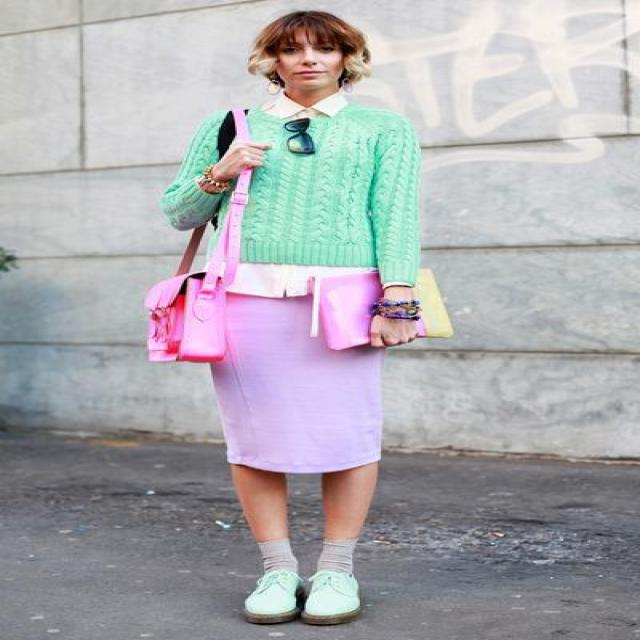bag: (146, 192, 451, 372)
jacket: (162, 105, 422, 282)
shirt: (226, 77, 376, 296)
shoe: (245, 568, 358, 614)
skirt: (206, 278, 406, 472)
sunglass: (283, 118, 315, 156)
